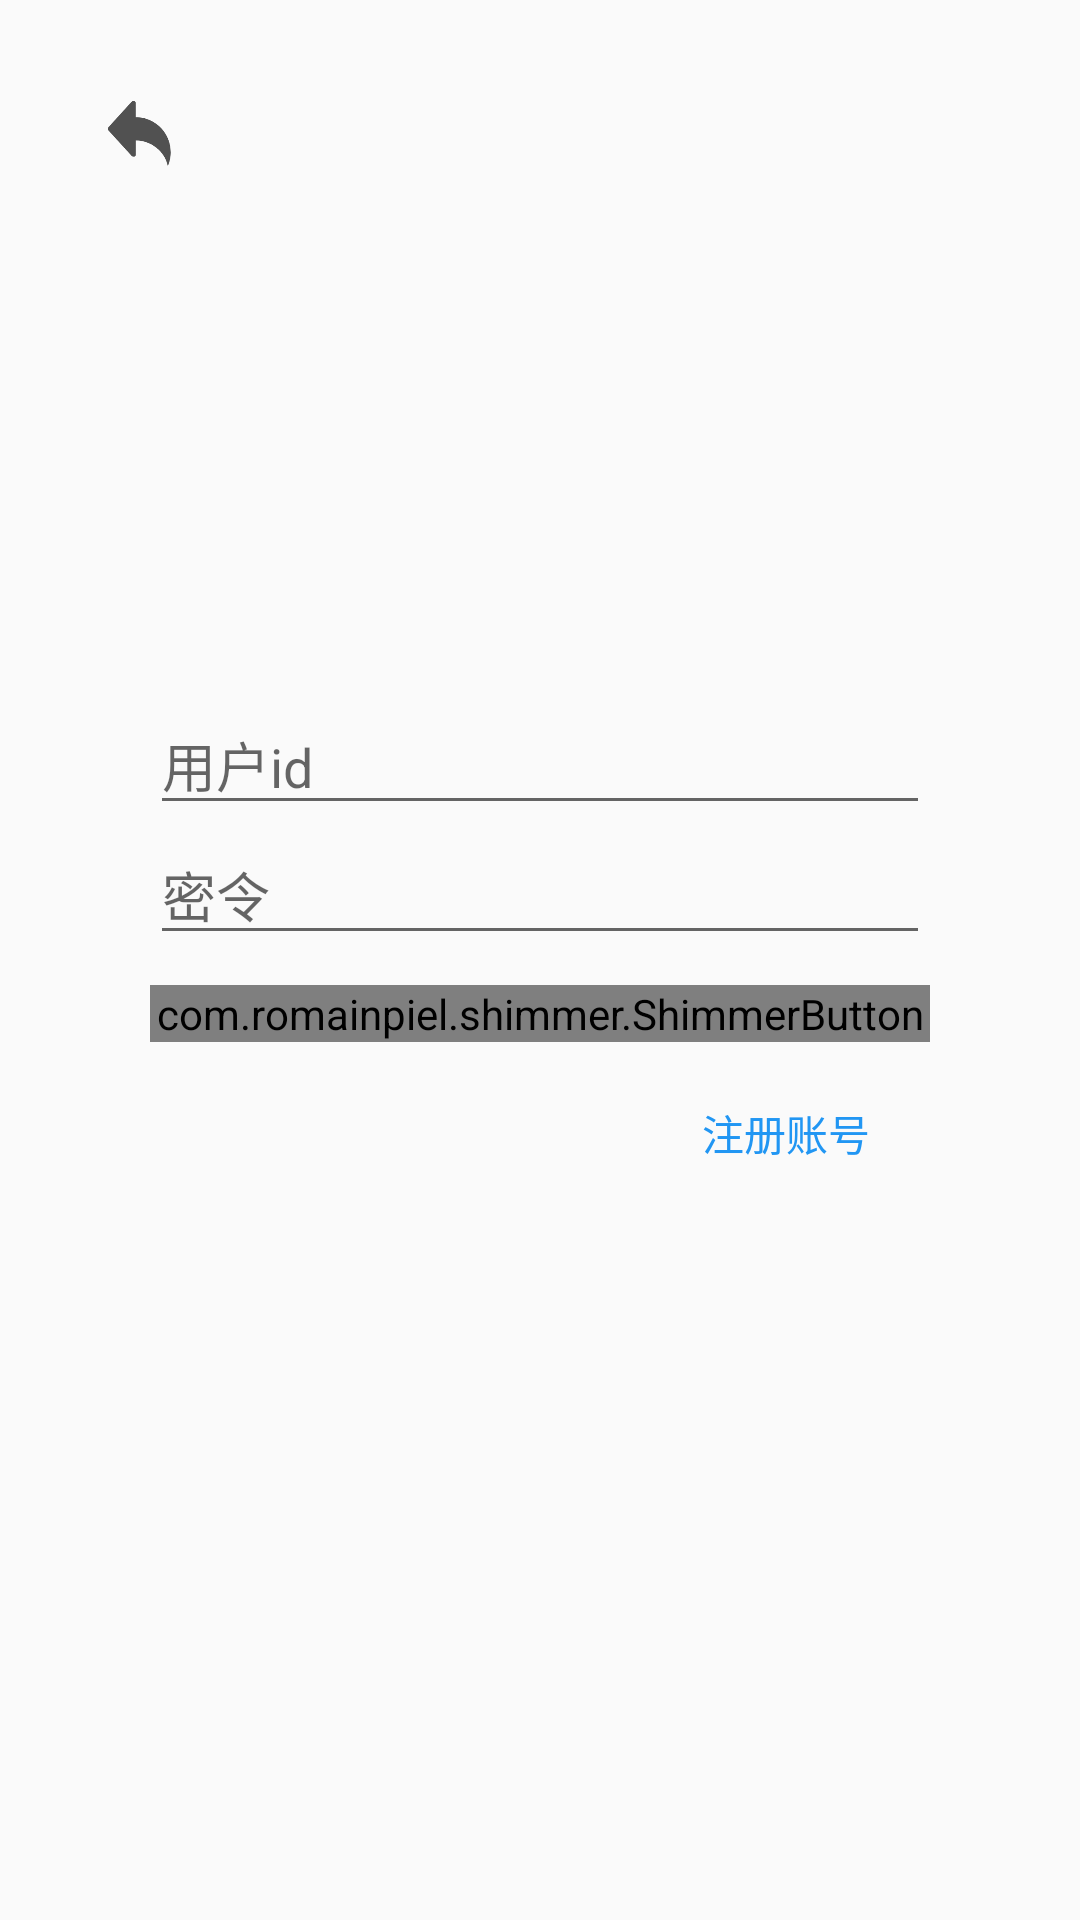

Locate icon controls on the screen. Image size 1080 x 1920, boxes as (x1, y1, x2, y2).
back: (108, 101, 171, 166)
